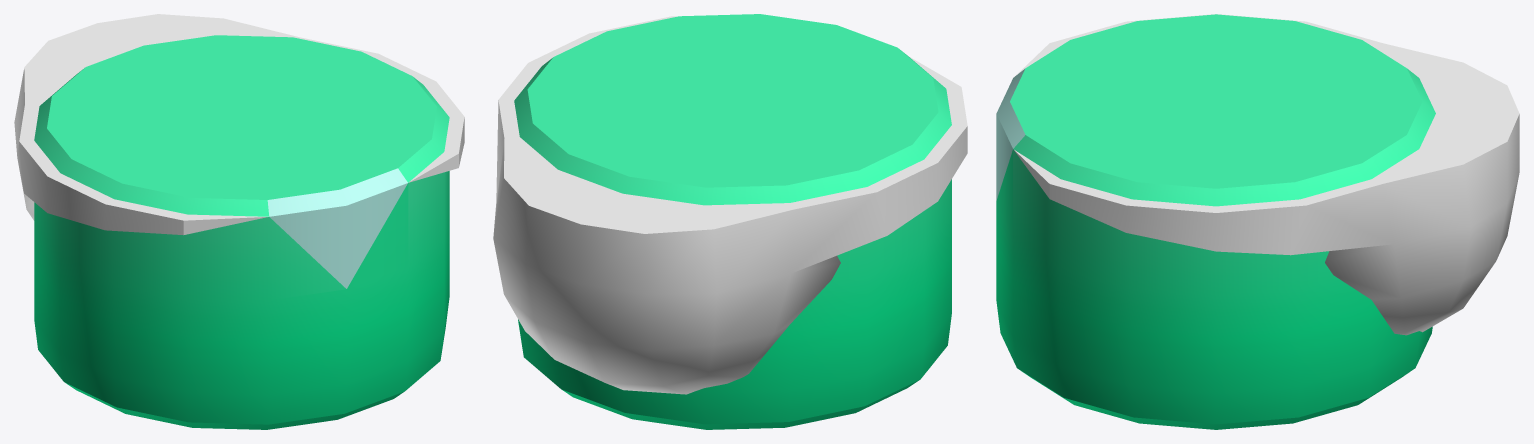
File: Body_Dress_03.fbx
3 renders of one model, left to right at view 1: azimuth 30°, elevation 25°; view 2: azimuth 150°, elevation 25°; view 3: azimuth 270°, elevation 25°, orthographic. The views are drawn at different scales.
Visible parts, largest first — view 1: Body_Dress_03; view 2: Body_Dress_03; view 3: Body_Dress_03.
Part boxes in pixels (<box>): Body_Dress_03: <box>14,14,464,429</box>; Body_Dress_03: <box>493,14,967,429</box>; Body_Dress_03: <box>996,14,1519,429</box>.
Size of the model in its own units: 107 by 61.13 by 119.
